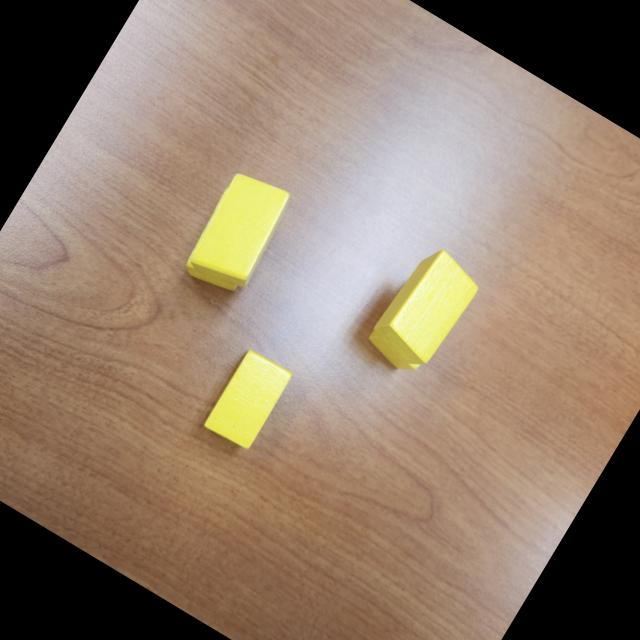yellow: (366, 242, 487, 378), (184, 164, 300, 296), (178, 195, 276, 302), (361, 276, 458, 382), (202, 347, 295, 453)
